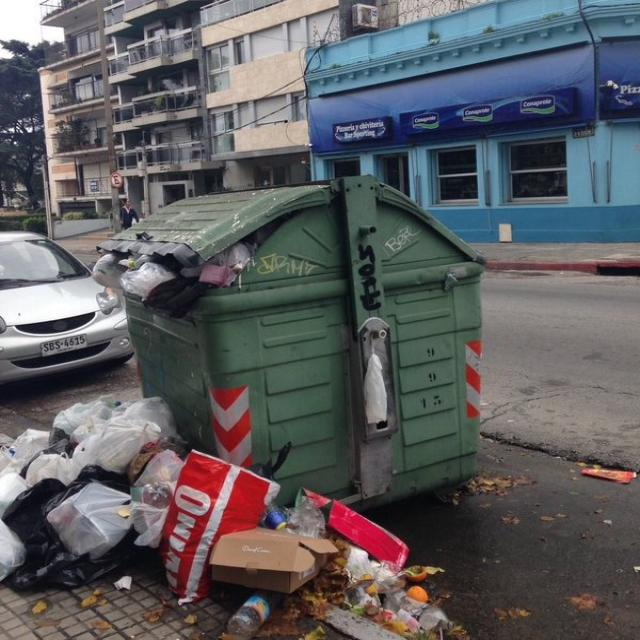garbage: (111, 449, 447, 639), (0, 384, 178, 582), (82, 250, 215, 322)
